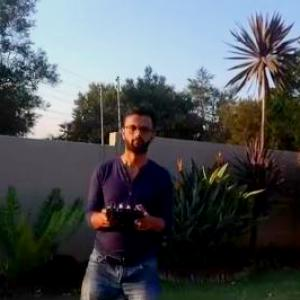follow: (73, 98, 177, 299)
